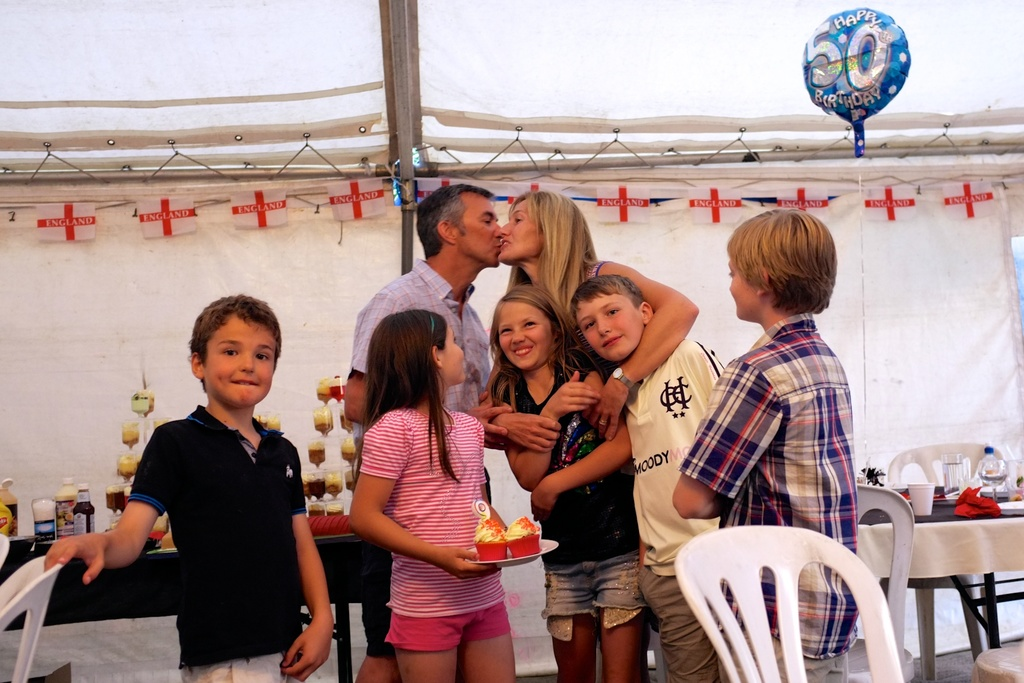Chair: (665, 506, 922, 683), (885, 436, 1014, 682), (836, 488, 911, 682), (0, 554, 69, 682), (969, 645, 1023, 682), (0, 532, 9, 570)
